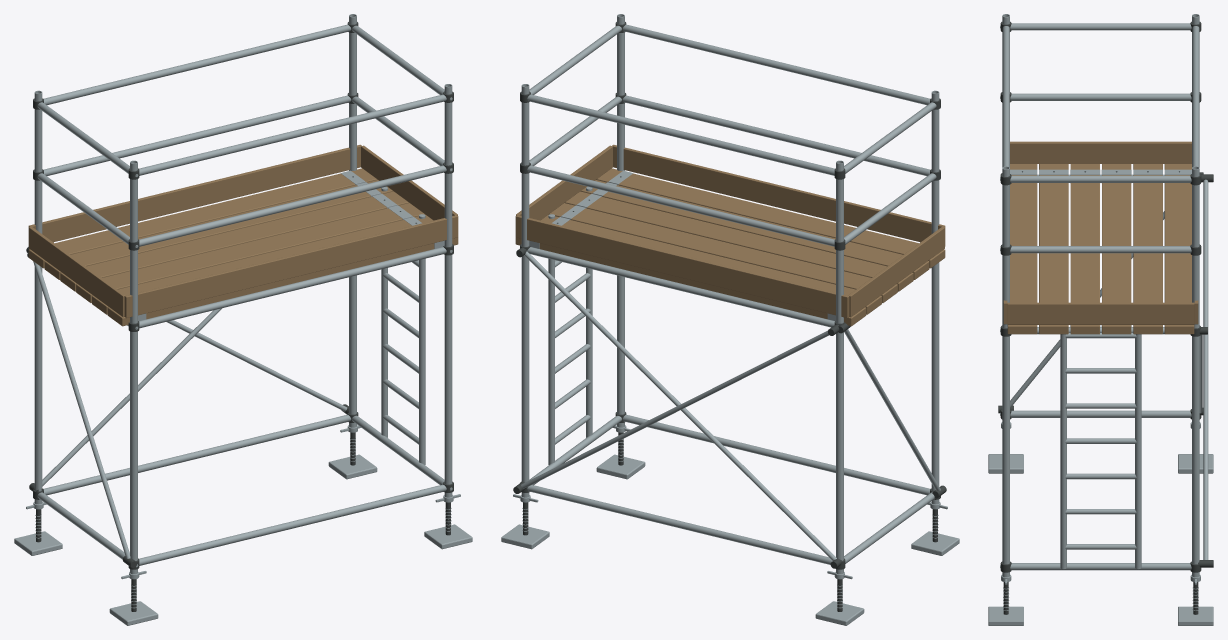
File: city-scaffold-bay.glb
The picture shows the model from 3 angles, left to right: view 1: azimuth 30°, elevation 25°; view 2: azimuth 150°, elevation 25°; view 3: azimuth 270°, elevation 25°; orthographic projection.
Parts seen in each view (by area): view 1: Fixed horizontal scaffold frame, Four scaffold standards, Long deck toe board, Long deck toe board.001, Individual timber working deck plank.003, Individual timber working deck plank.002, Individual timber working deck plank.005, Integrated access ladder, Individual timber working deck plank.004, Individual timber working deck plank.001, End deck toe board, Individual timber working deck plank (+10 smaller); view 2: Fixed horizontal scaffold frame, Four scaffold standards, Long deck toe board.001, Long deck toe board, Individual timber working deck plank.002, Individual timber working deck plank.003, Individual timber working deck plank, Integrated access ladder, Individual timber working deck plank.001, Individual timber working deck plank.004, Diagonal scaffold brace, End deck toe board (+10 smaller); view 3: Fixed horizontal scaffold frame, Four scaffold standards, Integrated access ladder, End deck toe board.001, End deck toe board, Individual timber working deck plank.001, Individual timber working deck plank.002, Individual timber working deck plank.003, Individual timber working deck plank.004, Individual timber working deck plank, Individual timber working deck plank.005, Diagonal scaffold brace.001 (+8 smaller).
Boxes of the visible parts, x1,y1,x2,y2 form: Fixed horizontal scaffold frame: [37, 24, 446, 565]; Four scaffold standards: [34, 14, 452, 574]; Long deck toe board: [124, 215, 458, 318]; Long deck toe board.001: [28, 144, 361, 246]; Individual timber working deck plank.003: [60, 191, 408, 291]; Individual timber working deck plank.002: [76, 203, 424, 302]; Individual timber working deck plank.005: [28, 168, 377, 268]; Integrated access ladder: [381, 187, 425, 464]; Individual timber working deck plank.004: [44, 180, 393, 279]; Individual timber working deck plank.001: [92, 214, 433, 314]; End deck toe board: [29, 226, 125, 317]; Individual timber working deck plank: [107, 237, 458, 326]; Fixed horizontal scaffold frame: [527, 24, 936, 564]; Four scaffold standards: [521, 14, 939, 574]; Long deck toe board.001: [515, 215, 849, 318]; Long deck toe board: [612, 144, 945, 246]; Individual timber working deck plank.002: [565, 191, 913, 291]; Individual timber working deck plank.003: [549, 203, 897, 302]; Individual timber working deck plank: [596, 168, 945, 268]; Integrated access ladder: [548, 187, 592, 464]; Individual timber working deck plank.001: [580, 180, 929, 279]; Individual timber working deck plank.004: [540, 214, 881, 314]; Diagonal scaffold brace: [524, 251, 836, 560]; End deck toe board: [848, 226, 944, 317]; Fixed horizontal scaffold frame: [1002, 23, 1199, 570]; Four scaffold standards: [1002, 14, 1199, 577]; Integrated access ladder: [1060, 333, 1141, 569]; End deck toe board.001: [1007, 302, 1194, 324]; End deck toe board: [1010, 141, 1191, 163]; Individual timber working deck plank.001: [1039, 164, 1068, 334]; Individual timber working deck plank.002: [1070, 164, 1099, 334]; Individual timber working deck plank.003: [1102, 164, 1131, 334]; Individual timber working deck plank.004: [1133, 164, 1162, 334]; Individual timber working deck plank: [1007, 164, 1037, 334]; Individual timber working deck plank.005: [1164, 164, 1194, 334]; Diagonal scaffold brace.001: [1203, 179, 1208, 559].
Bounding box in the file's own units: 2.55 × 3.2 × 1.45.
